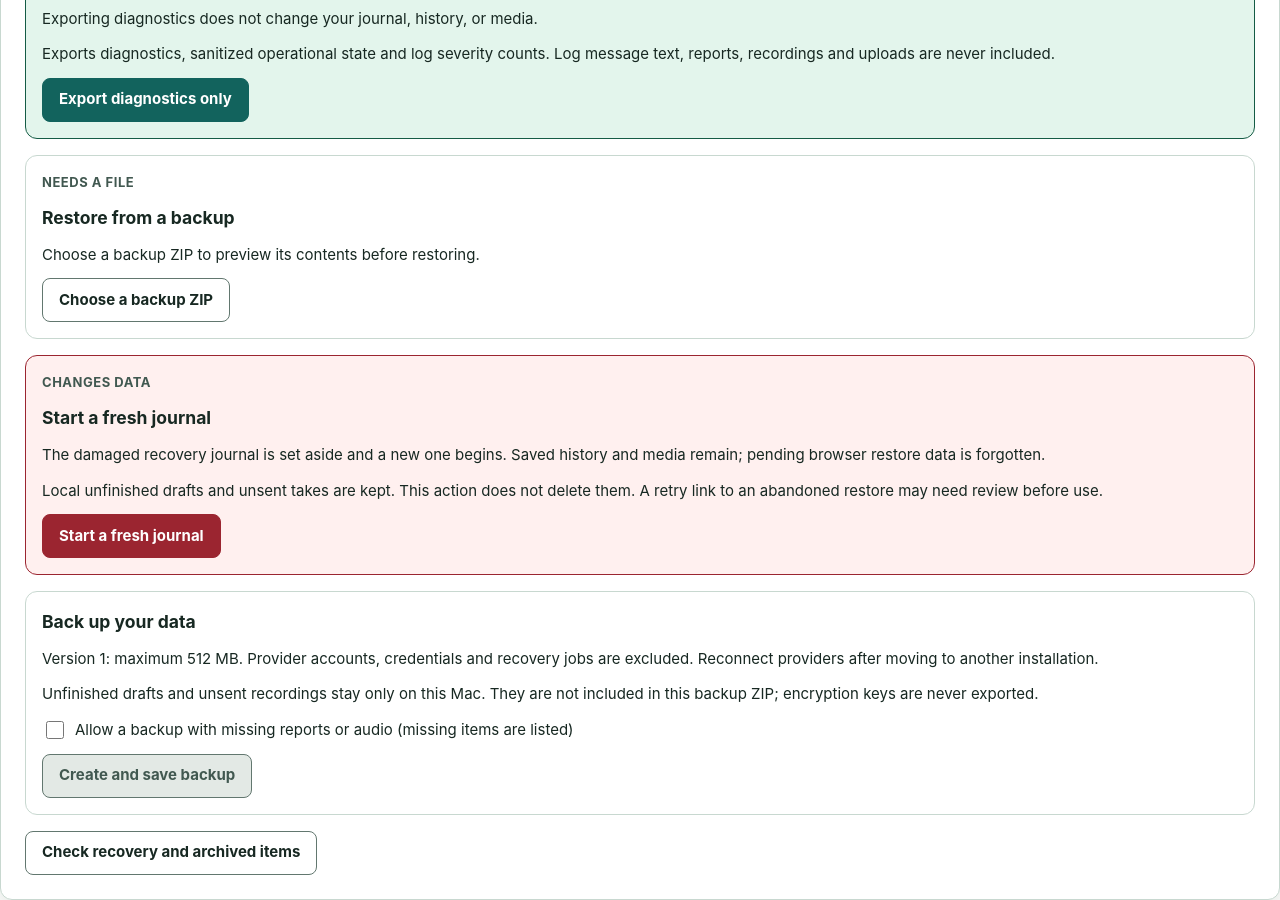
Scenario: journal recovery visibility › enables and names all three damaged-journal exits
(page scrolled)
Check: the button "Export diagnostics only" is enabled, box [42,78,249,122]
Click the button "Start a fresh journal". click: coordinates (131, 536)
box: [42,514,221,558]
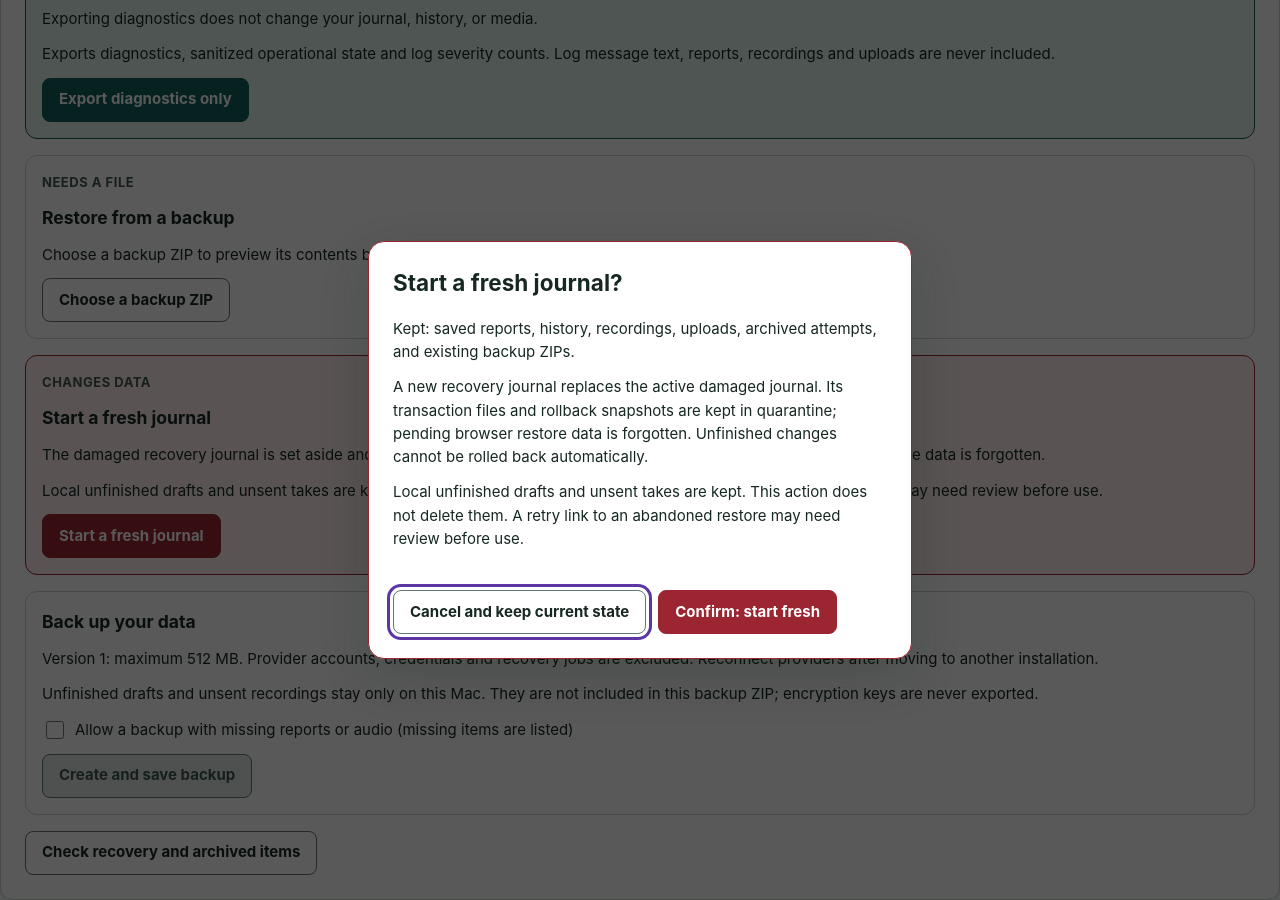
Check: the button "Confirm: start fresh" is enabled, box [658,590,837,634]
Check: the dialog "Start a fresh journal?" is shown, box [368,241,912,659]
Check: the text "Kept: saved reports, history, recordings, uploads, archived attempts, and existing backup ZIPs" is shown, box [393,319,877,361]
Click the button "Cancel and keep current state". click: coordinates (520, 612)
box: [393,590,646,634]
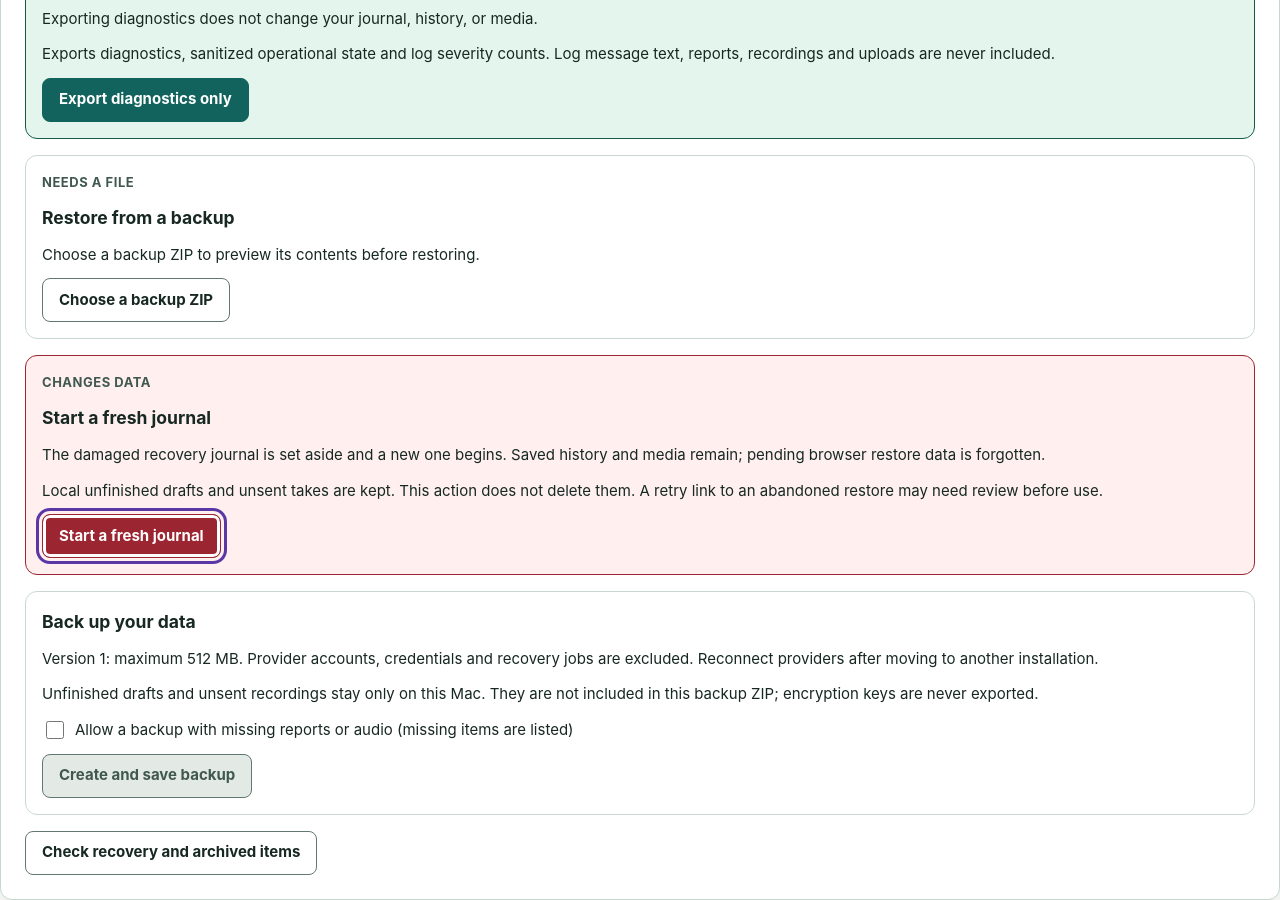
Click the button "Start a fresh journal". click: coordinates (131, 536)
box: [42,514,221,558]
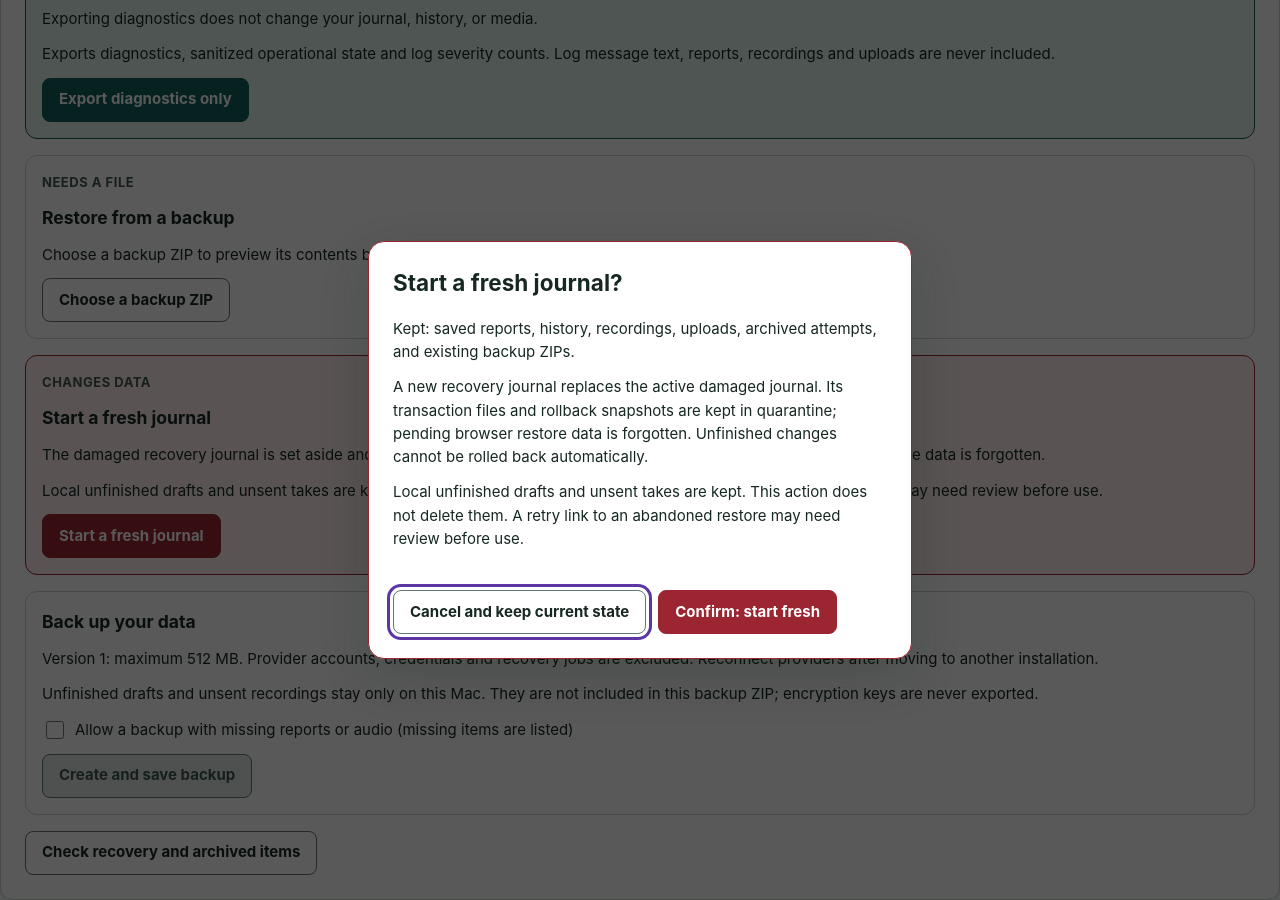
Click the button "Confirm: start fresh". click: coordinates (748, 612)
box: [658,590,837,634]
(page scrolled)
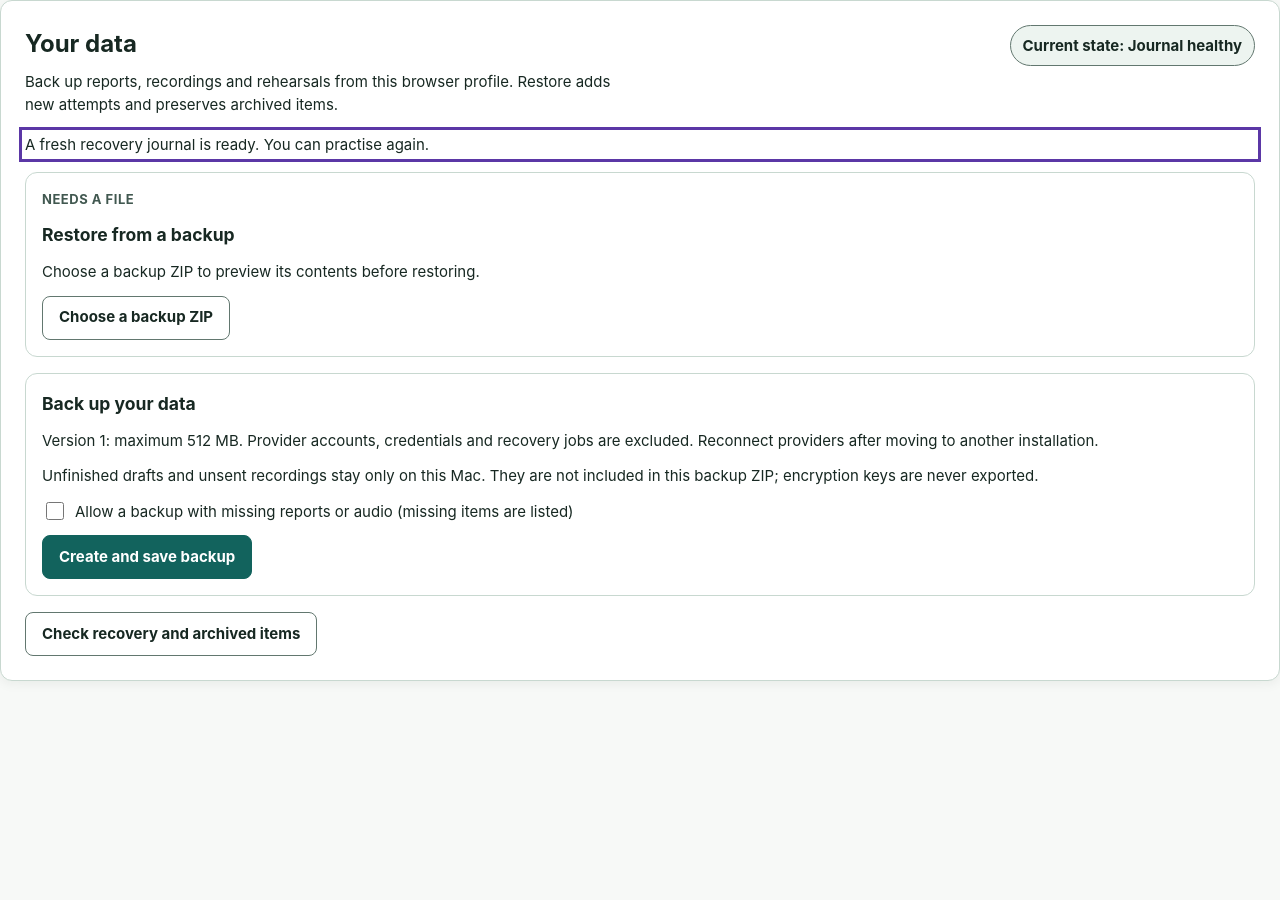
Check: the text "A fresh recovery journal is ready. You can practise again." is shown, box [25,135,429,154]
